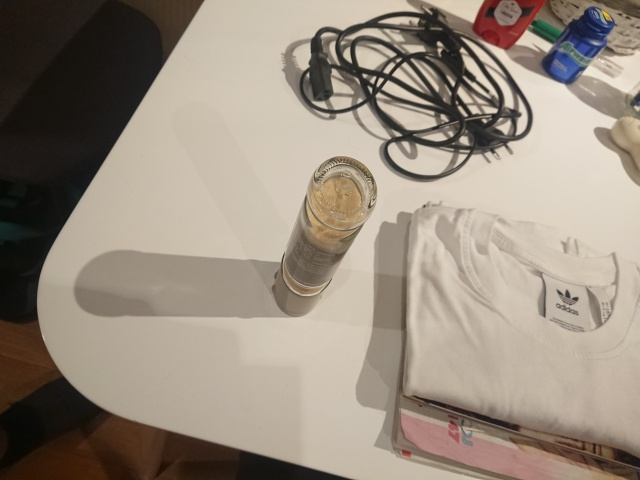Kotanyi Garlic Granules 70g: (268, 154, 380, 319)
